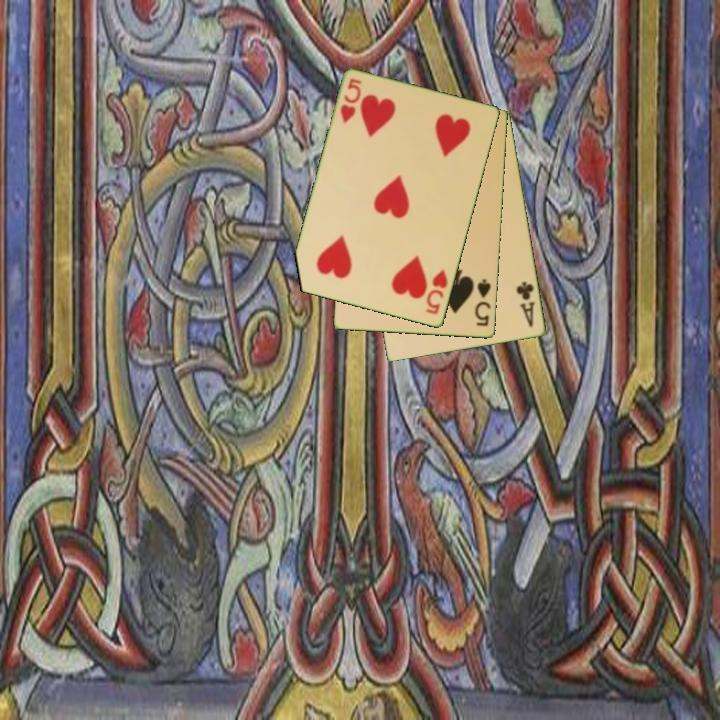5h: (422, 266, 451, 318), (337, 75, 365, 127)
5s: (471, 276, 494, 329)
Ac: (513, 278, 538, 330)
